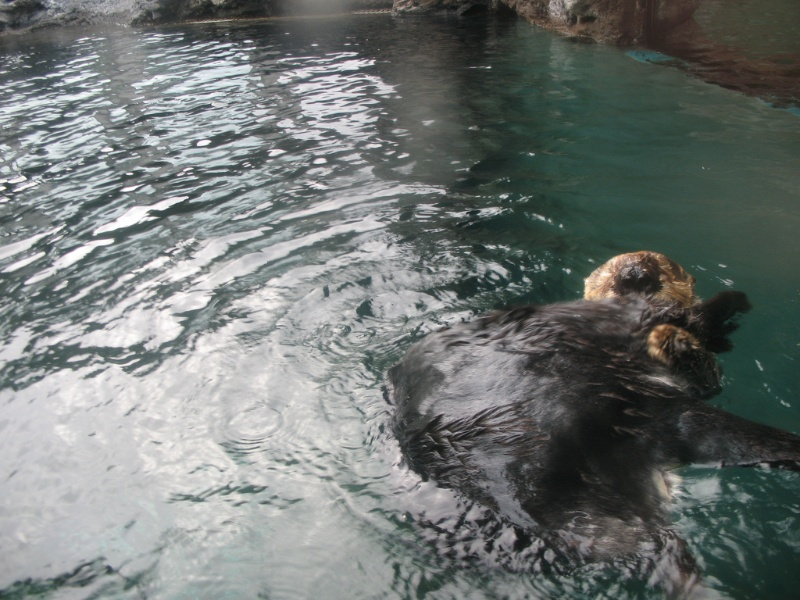minkish: (378, 245, 778, 562)
